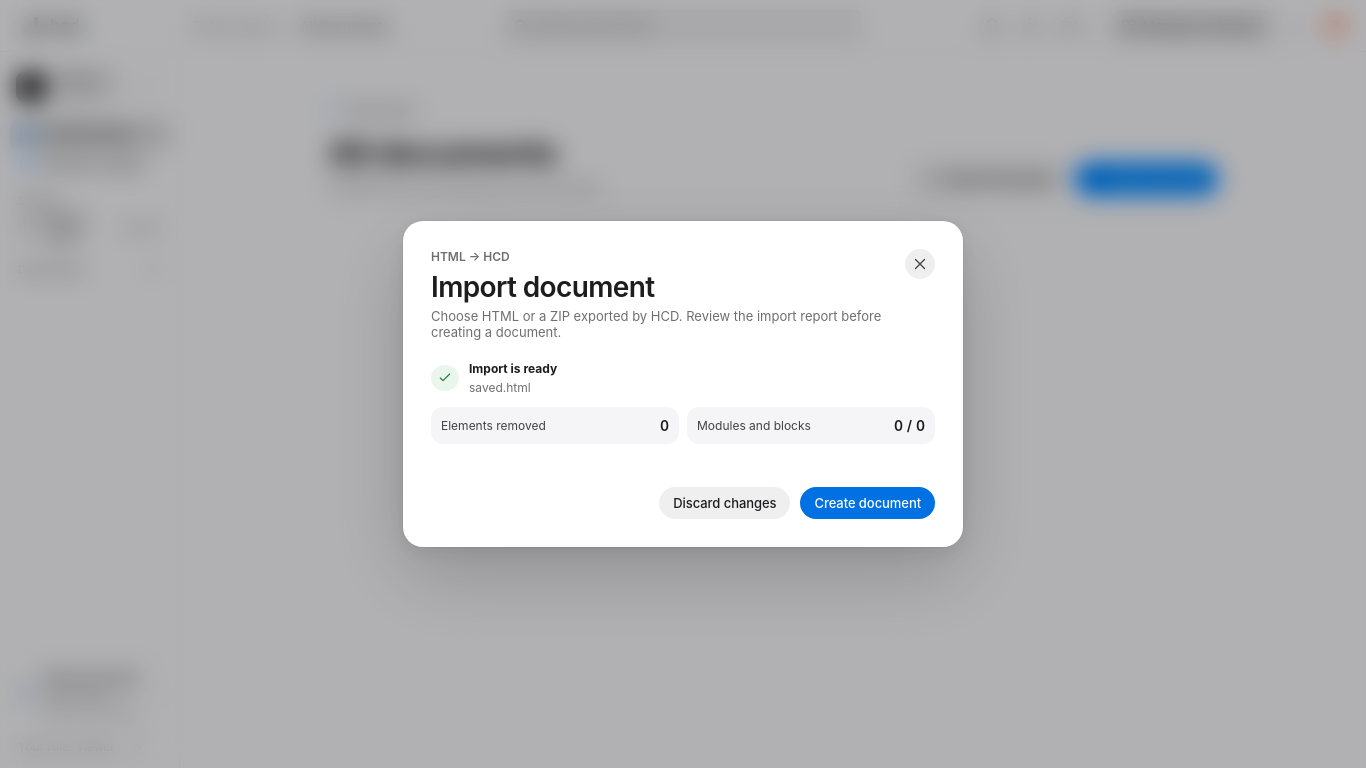
Test: C2 closes a discarded saved import route
Click the button with class "button-soft" showing "Discard changes" at x=725, y=503, box [659, 487, 790, 519]
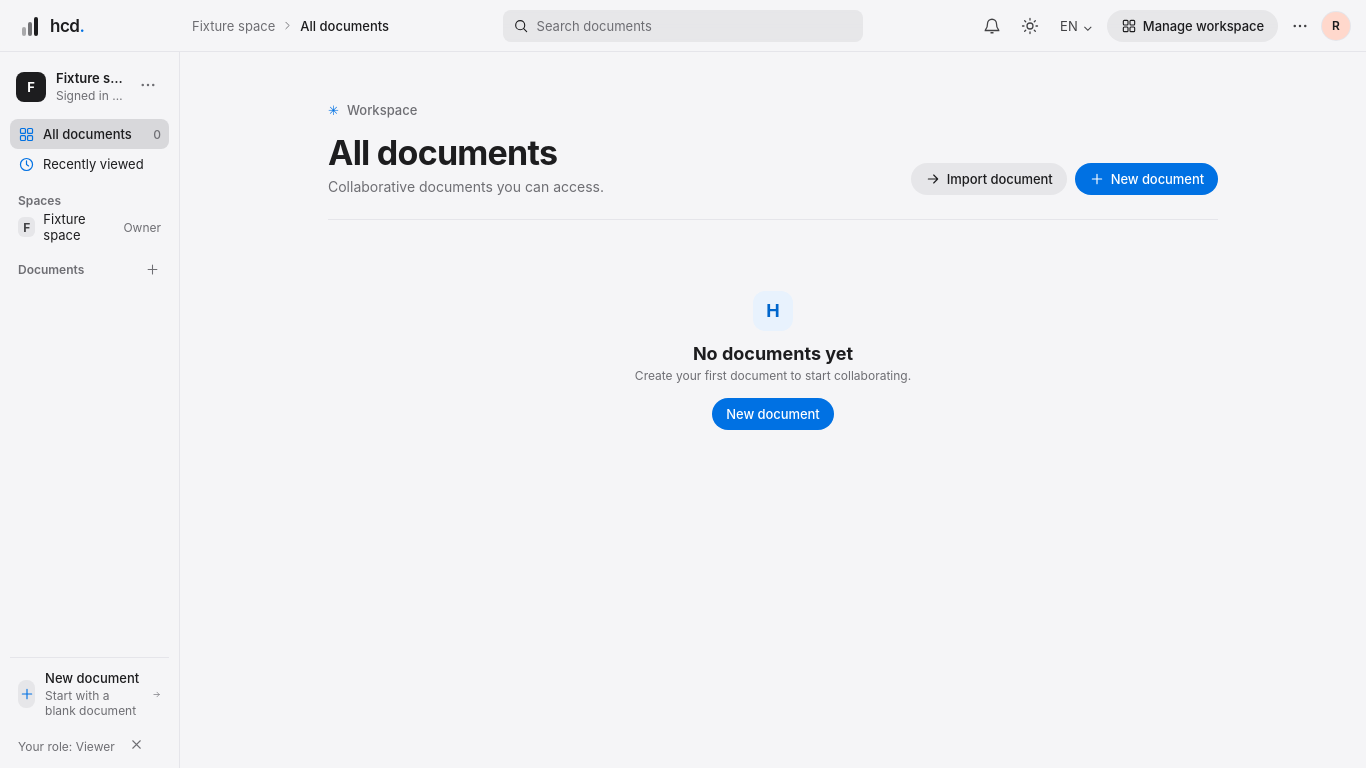
Expected: the dialog with class "import-modal" is gone
